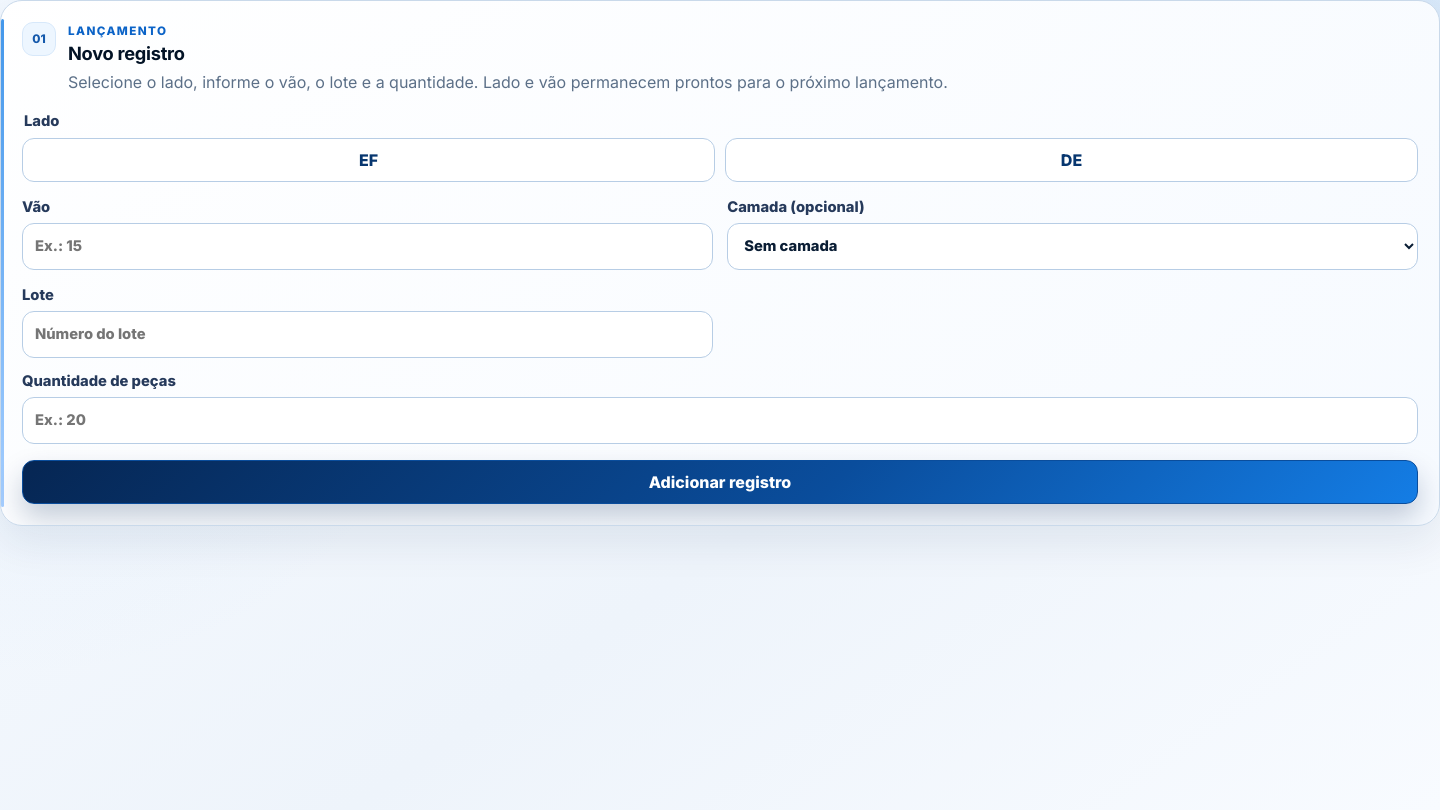
mantém lote como texto e remove caracteres não numéricos
The image size is (1440, 810).
Step 1. Type "27A1234567890-3" into the field labelled "Lote" → (368, 334), box [22,310,713,358]
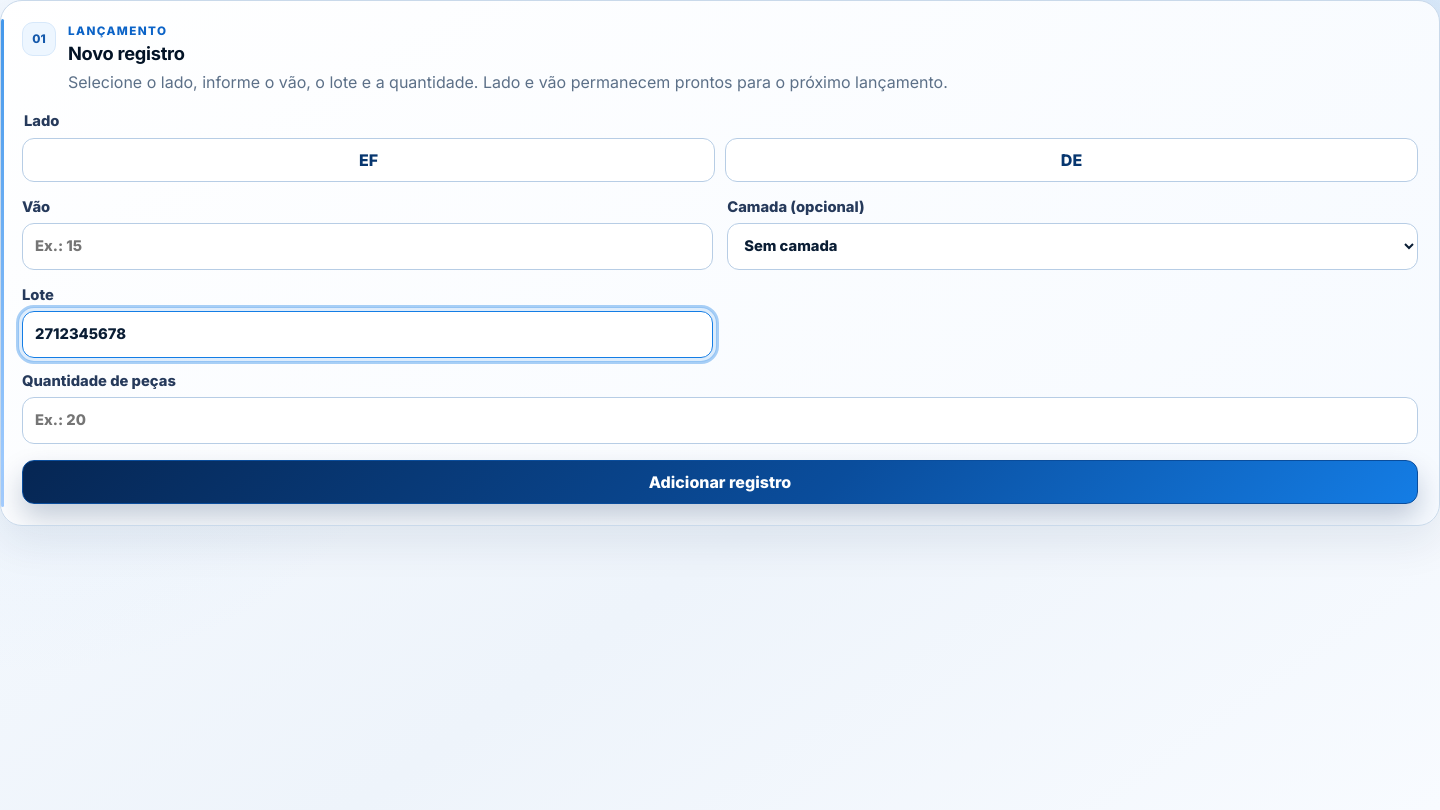
Result: the field labelled "Lote" holds "2712345678" at [22,310,713,358]
